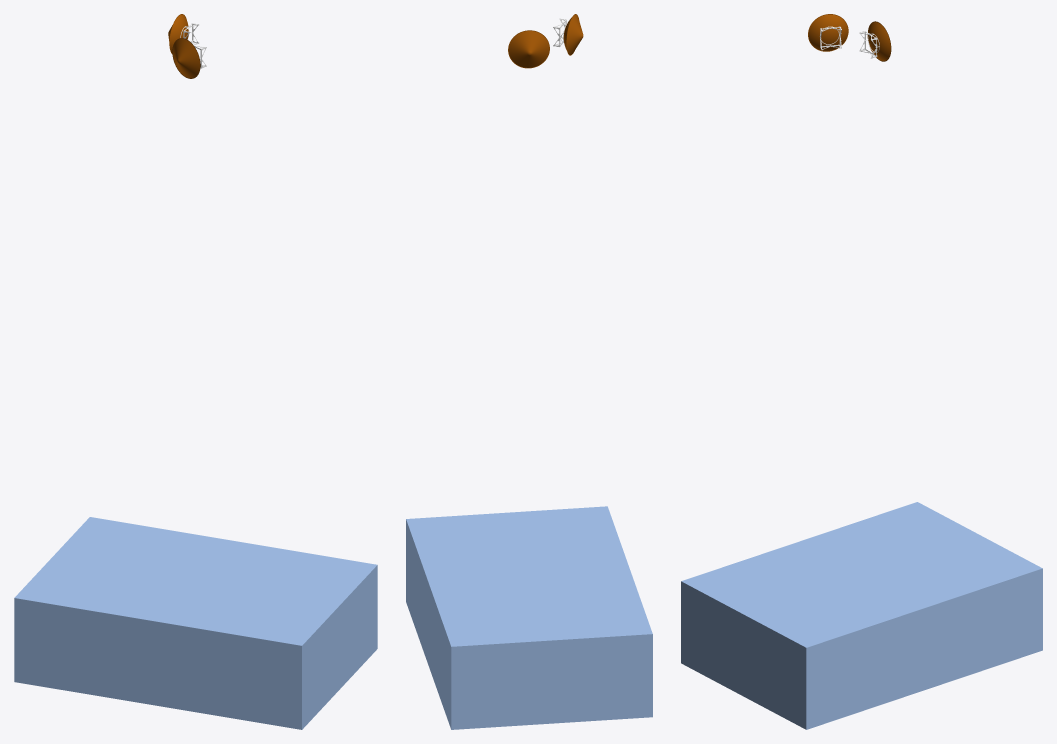
Rendered from ang川上.glb.
3 views of the same model, side by side, from view 1: azimuth 30°, elevation 25°; view 2: azimuth 150°, elevation 25°; view 3: azimuth 270°, elevation 25° (orthographic). The views are drawn at different scales.
Parts seen in each view (by area): view 1: group_51, group_31.004; view 2: group_51, group_31, group_31.004; view 3: group_51, group_31.004, group_31.
Part boxes in pixels (x1=…): group_51: x1=14, y1=517, x2=377, y2=729; group_31.004: x1=172, y1=38, x2=199, y2=78; group_51: x1=406, y1=506, x2=652, y2=729; group_31: x1=508, y1=31, x2=549, y2=67; group_31.004: x1=563, y1=14, x2=583, y2=54; group_51: x1=681, y1=502, x2=1042, y2=729; group_31.004: x1=808, y1=14, x2=847, y2=51; group_31: x1=867, y1=22, x2=890, y2=60.
Bounding box in the file's own units: 17.16 × 34.53 × 17.96.
